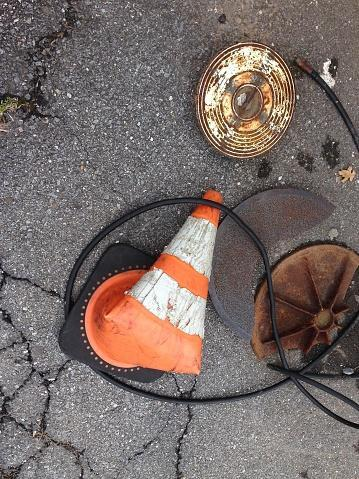Cone: (58, 190, 221, 404)
